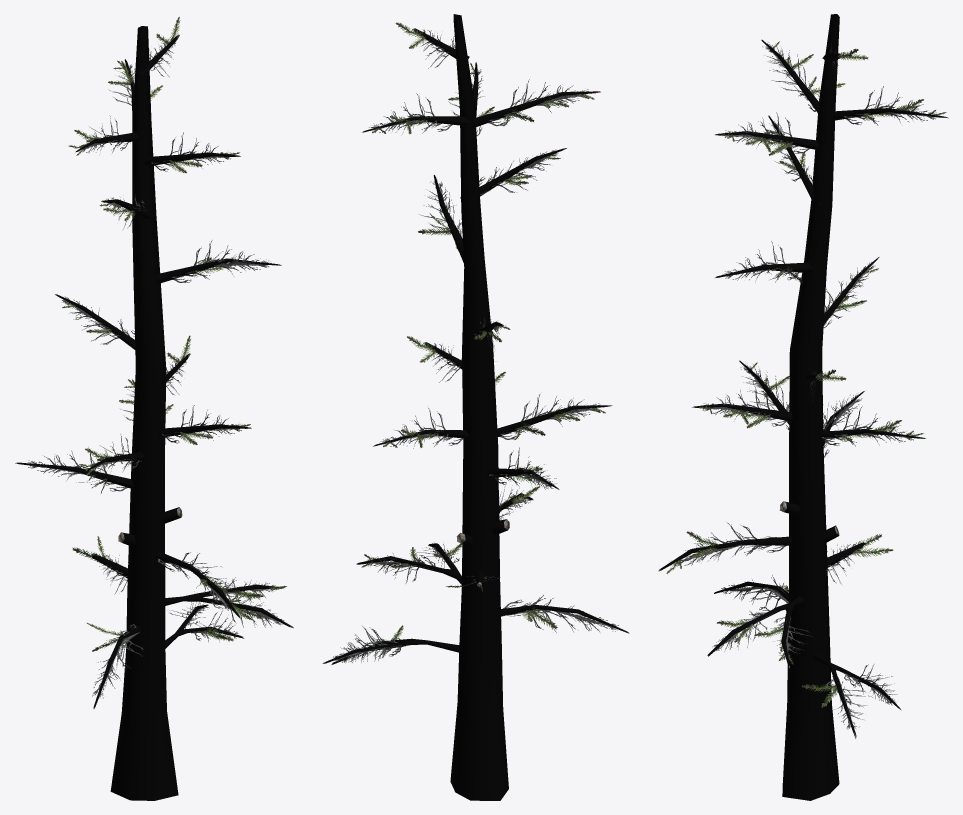
File: Tree_NorwaySpruce1_Low.fbx
3 renders of one model, left to right at view 1: azimuth 30°, elevation 25°; view 2: azimuth 150°, elevation 25°; view 3: azimuth 270°, elevation 25°, orthographic. The views are drawn at different scales.
Visible parts, largest first — view 1: NorwaySpruce1_Low; view 2: NorwaySpruce1_Low; view 3: NorwaySpruce1_Low.
Boxes of the visible parts, bbox=[...] form: NorwaySpruce1_Low: bbox=[15, 17, 293, 800]; NorwaySpruce1_Low: bbox=[322, 14, 629, 800]; NorwaySpruce1_Low: bbox=[658, 14, 948, 800].
Size of the model in its own units: 5.47 by 16.83 by 5.71.
